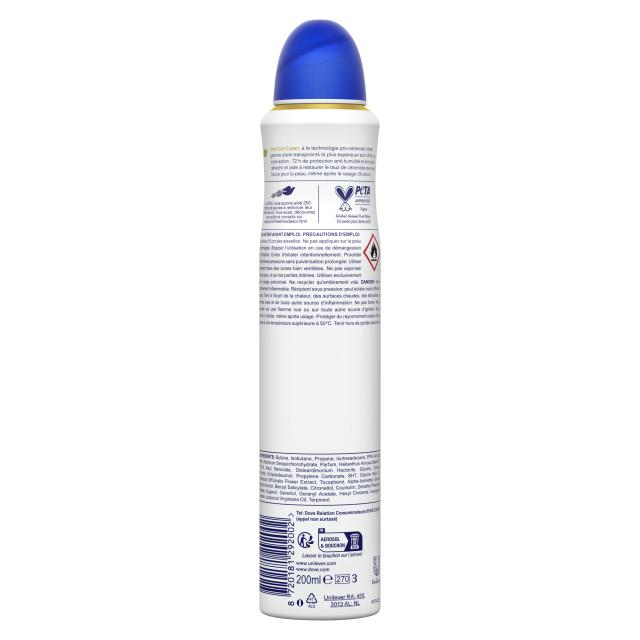GHS_Symbol_FLAME: (364, 233, 381, 271)
